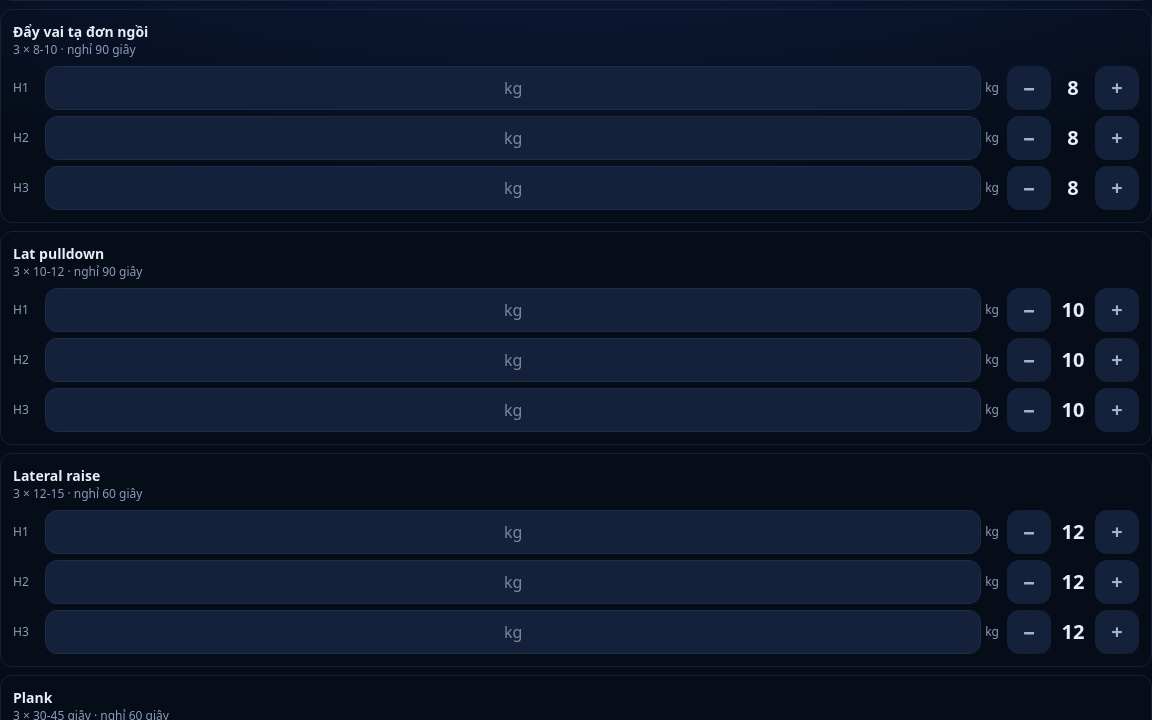
Test: WorkoutForm › kg không phải số thì chặn Lưu
(page scrolled)
Type "abc" into the field named "Lat pulldown hiệp 2: kg".
click(513, 360); type("abc")  # box [45, 338, 981, 382]
(page scrolled)
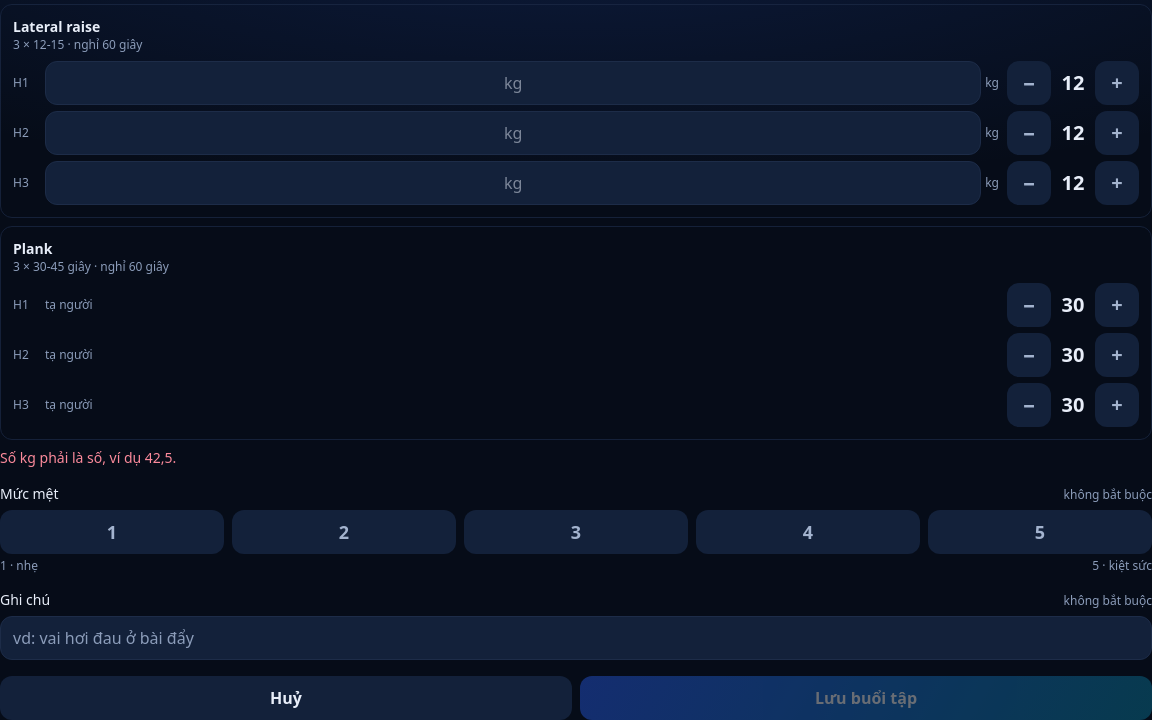
Result: the message shows "Số kg phải là số" at [0, 448, 176, 467]
Result: the button "Lưu buổi tập" is disabled at [580, 676, 1151, 719]
